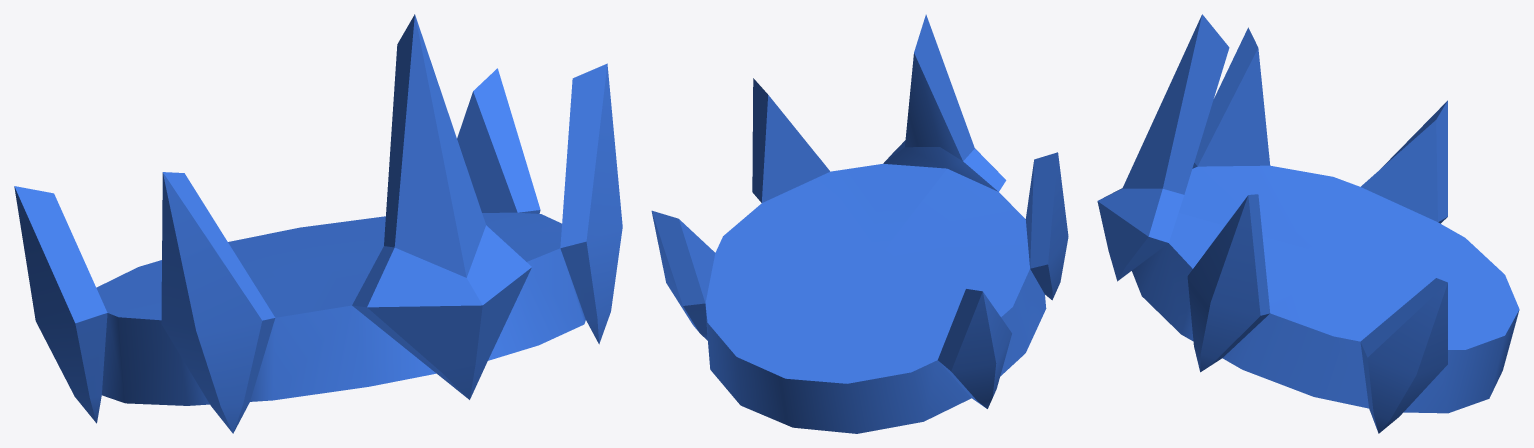
Rendered from Head_47.fbx.
3 views of the same model, side by side, from view 1: azimuth 30°, elevation 25°; view 2: azimuth 150°, elevation 25°; view 3: azimuth 270°, elevation 25° (orthographic). The views are drawn at different scales.
Visible parts, largest first — view 1: Head_47; view 2: Head_47; view 3: Head_47.
Boxes of the visible parts, left/top/right/bottom form: Head_47: left=14, top=14, right=622, bottom=433; Head_47: left=651, top=14, right=1068, bottom=433; Head_47: left=1097, top=14, right=1519, bottom=433.
Size of the model in its own units: 70.46 by 64.24 by 68.91.
